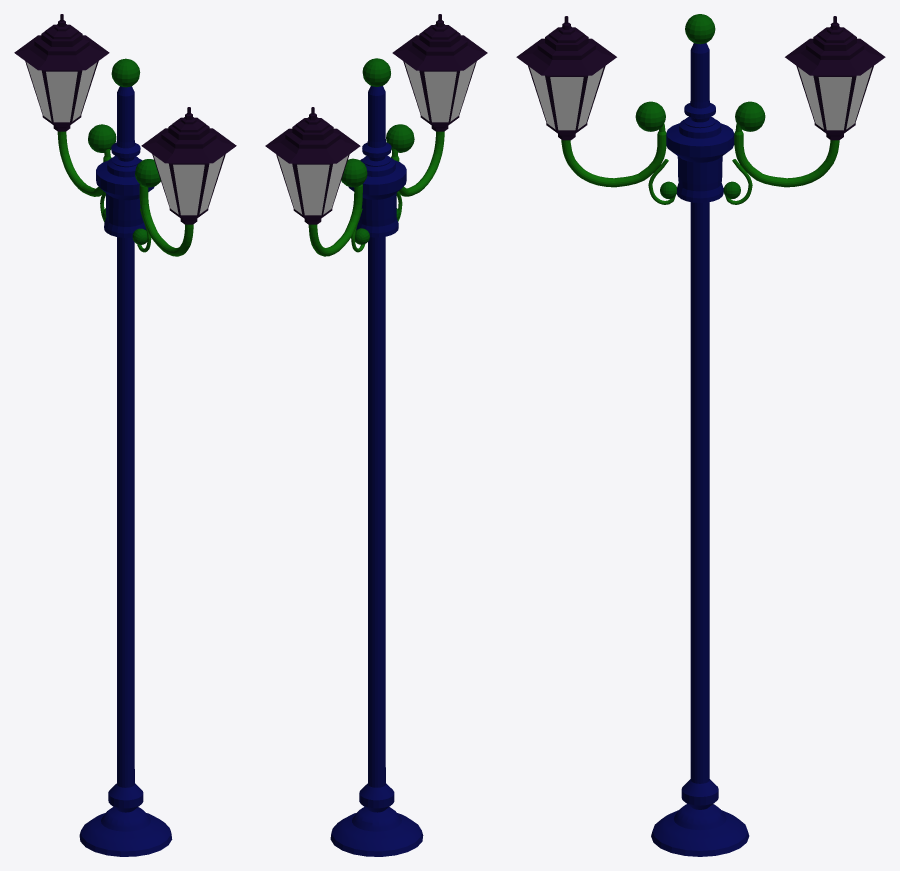
The model's file is lamp.gltf.
3 views of the same model, side by side, from view 1: azimuth 30°, elevation 25°; view 2: azimuth 150°, elevation 25°; view 3: azimuth 270°, elevation 25° (orthographic). The views are drawn at different scales.
Visible parts, largest first — view 1: Cylinder, Cylinder.001, Cylinder.002, Sphere.003, Cylinder.005; view 2: Cylinder, Cylinder.001, Cylinder.002, Sphere.003, Cylinder.005; view 3: Cylinder, Cylinder.002, Cylinder.001, Cylinder.005, Sphere.003.
Part boxes in pixels (x1,y1,x2,y2): Cylinder: (79,86,172,856); Cylinder.001: (14,14,109,131); Cylinder.002: (141,107,236,224); Sphere.003: (88,58,160,244); Cylinder.005: (57,131,193,256); Cylinder: (330,86,423,856); Cylinder.001: (265,107,360,224); Cylinder.002: (392,14,487,131); Sphere.003: (341,58,414,244); Cylinder.005: (308,131,444,256); Cylinder: (651,43,749,856); Cylinder.002: (516,16,616,140); Cylinder.001: (785,16,885,140); Cylinder.005: (561,123,839,204); Sphere.003: (635,14,765,198).
Size of the model in its own units: 0.5101 by 4.69 by 1.91.
